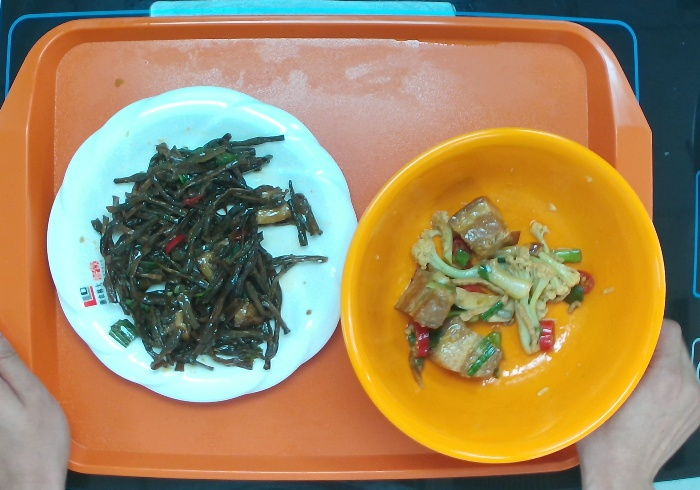ZNLD-Hua_Bian_Wan: (45, 83, 359, 405)
ZNLD-Ju_Se_Tang_Wan: (338, 124, 667, 465)
